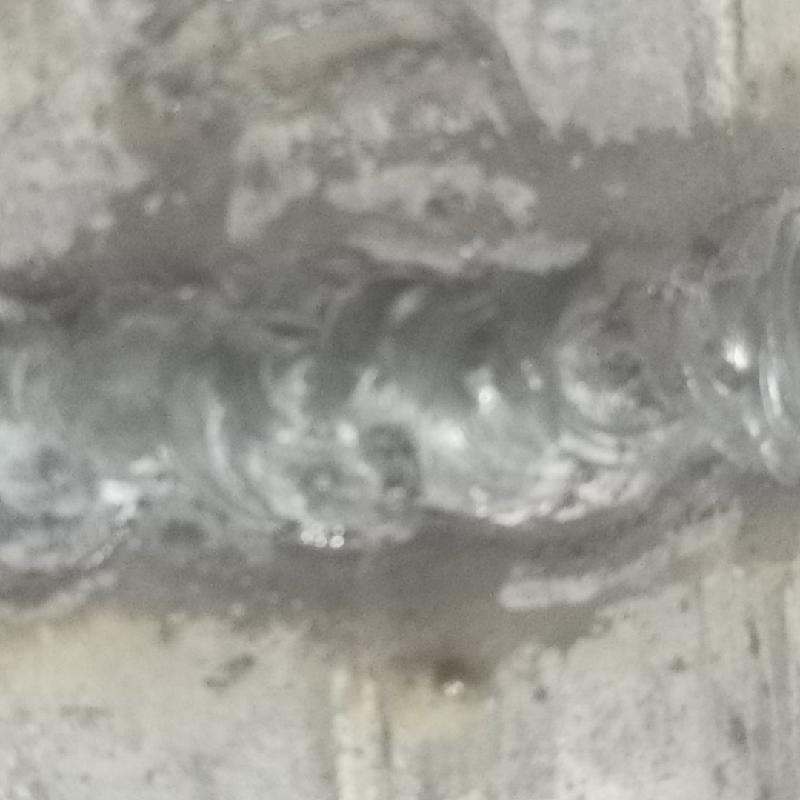good: (1, 240, 799, 572)
